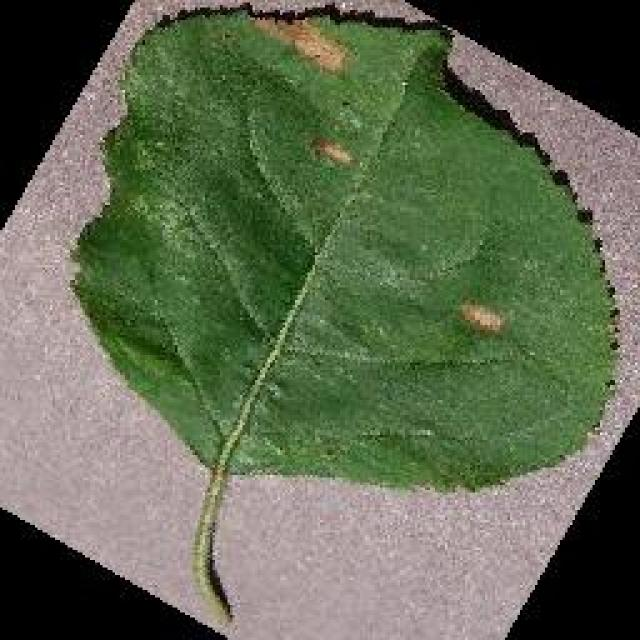Black_rot: (65, 2, 623, 628)
